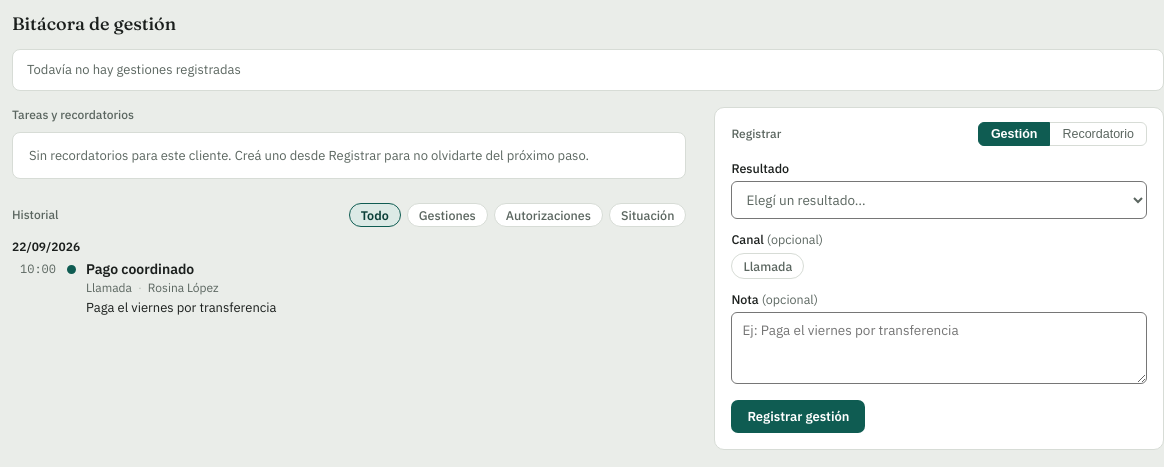
Test case: BitacoraActividad — Bitácora v2 › cambiar de filtro pide la primera página de ese filtro y lo recuerda
Expected: the text "Paga el viernes por transferencia" is shown, top-left (86, 298), bottom-right (276, 316)
Click the button "Autorizaciones". click: (548, 214)
box: top-left (494, 202), bottom-right (603, 226)
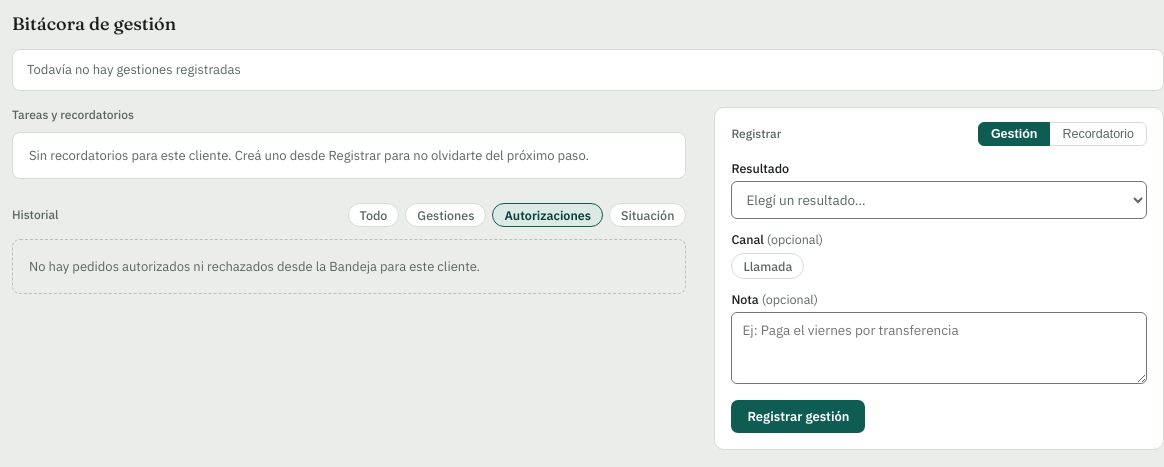
Result: the text "No hay pedidos autorizados ni rechazados desde la Bandeja para este cliente." is shown at top-left (12, 238), bottom-right (686, 294)
